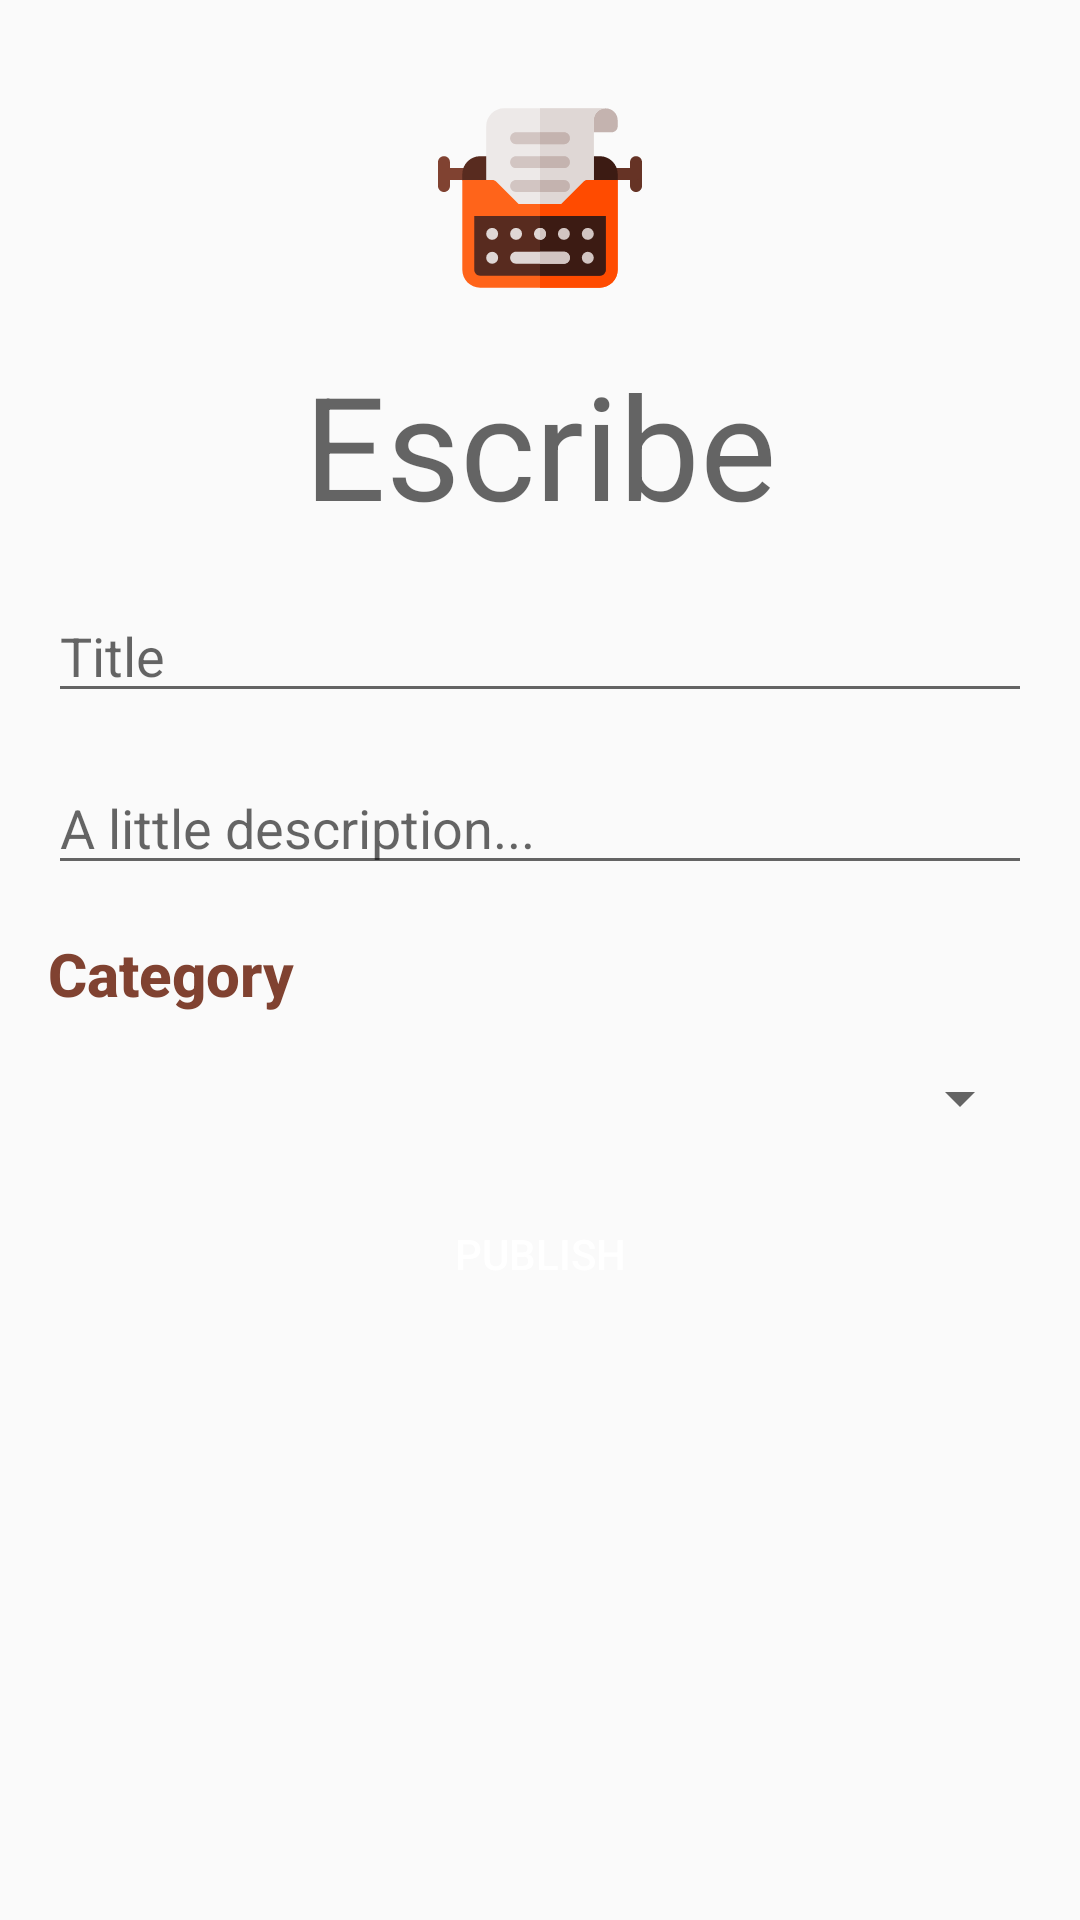

Screen size 1080px x 1920px. Icon name, then its box in pixels as (x1, y1, x2, y2):
write: (438, 108, 642, 288)
